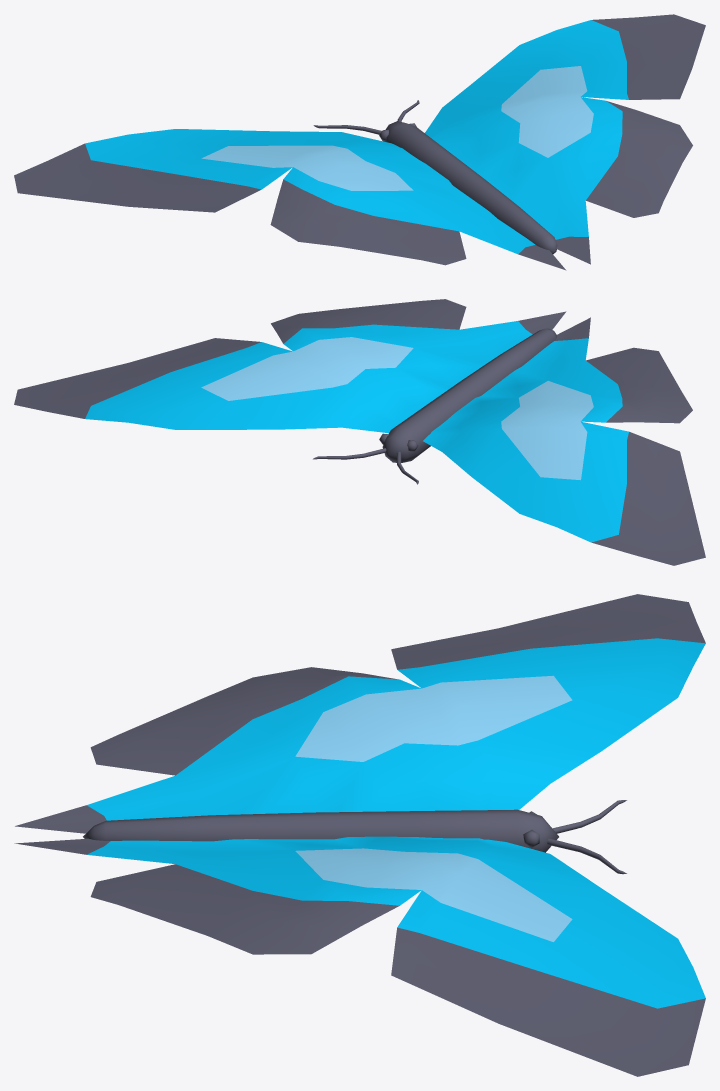
Rendered from NOVELO_BUTTERFLY.gltf.
The picture shows the model from 3 angles, top to bottom: view 1: azimuth 30°, elevation 25°; view 2: azimuth 150°, elevation 25°; view 3: azimuth 270°, elevation 25°; orthographic projection. The views are drawn at different scales.
Visible parts, largest first — view 1: node-0; view 2: node-0; view 3: node-0.
Part boxes in pixels (box(x1,y1,x2,y2)): node-0: box(14, 14, 705, 270); node-0: box(14, 299, 705, 565); node-0: box(14, 594, 705, 1076).
Size of the model in its own units: 210 by 14.68 by 127.
